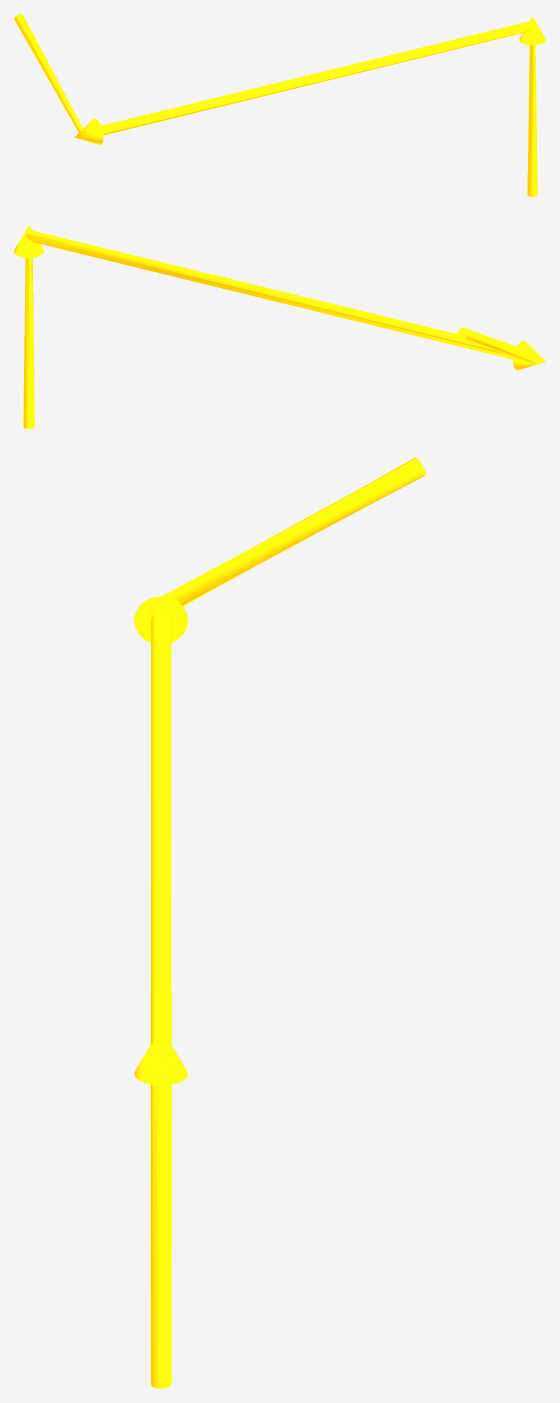
Rendered from gantry_crane_flow.glb.
The picture shows the model from 3 angles, top to bottom: view 1: azimuth 30°, elevation 25°; view 2: azimuth 150°, elevation 25°; view 3: azimuth 270°, elevation 25°; orthographic projection. The views are drawn at different scales.
Parts seen in each view (by area): view 1: supply; view 2: supply; view 3: supply.
Part boxes in pixels (<box>): supply: <box>14,14,545,196</box>; supply: <box>14,225,545,428</box>; supply: <box>134,457,425,1388</box>.
Size of the model in its own units: 1.05 by 0.5186 by 0.2811.
